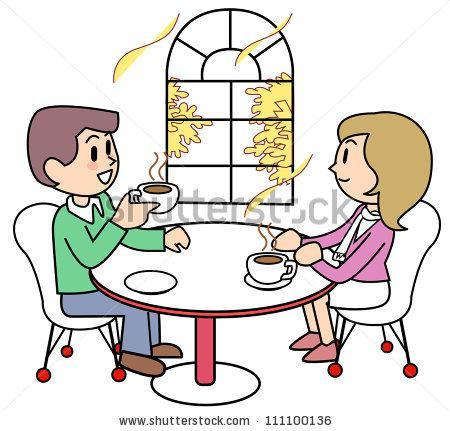chair: (323, 194, 446, 379), (9, 201, 133, 382)
diningtable: (85, 219, 344, 407)
person: (22, 102, 188, 383), (277, 106, 437, 365)
